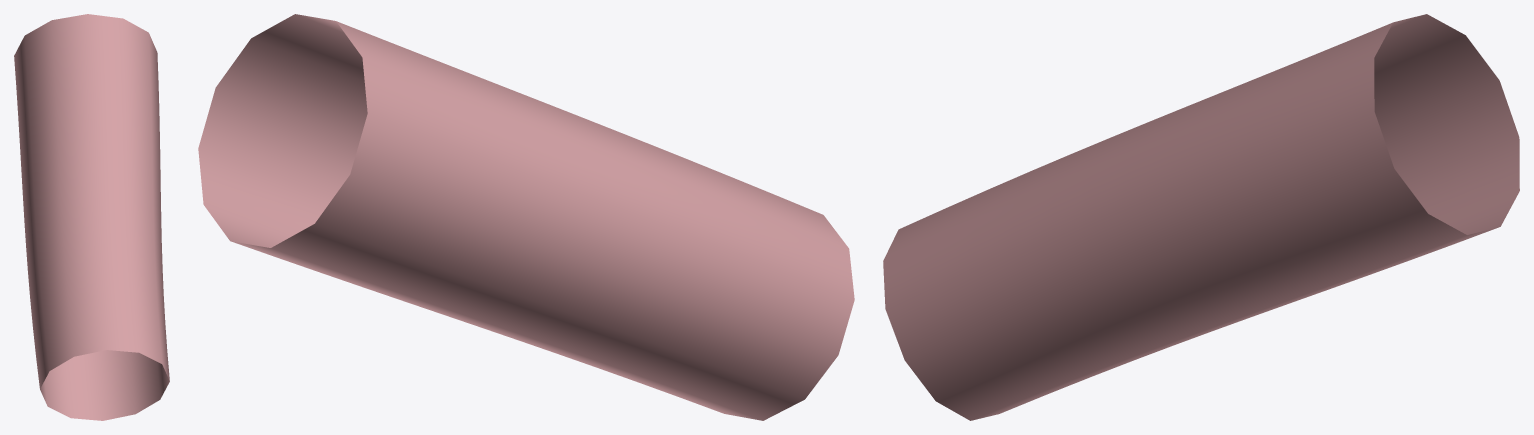
3 renders of one model, left to right at view 1: azimuth 30°, elevation 25°; view 2: azimuth 150°, elevation 25°; view 3: azimuth 270°, elevation 25°, orthographic. The views are drawn at different scales.
Parts seen in each view (by area): view 1: ZA_30536fc4c14433de; view 2: ZA_30536fc4c14433de; view 3: ZA_30536fc4c14433de.
Boxes of the visible parts, x1=… form: ZA_30536fc4c14433de: x1=14, y1=14, x2=169, y2=420; ZA_30536fc4c14433de: x1=198, y1=14, x2=854, y2=420; ZA_30536fc4c14433de: x1=883, y1=14, x2=1519, y2=420.
Bounding box in the file's own units: 0.0213 × 0.0247 × 0.03.
